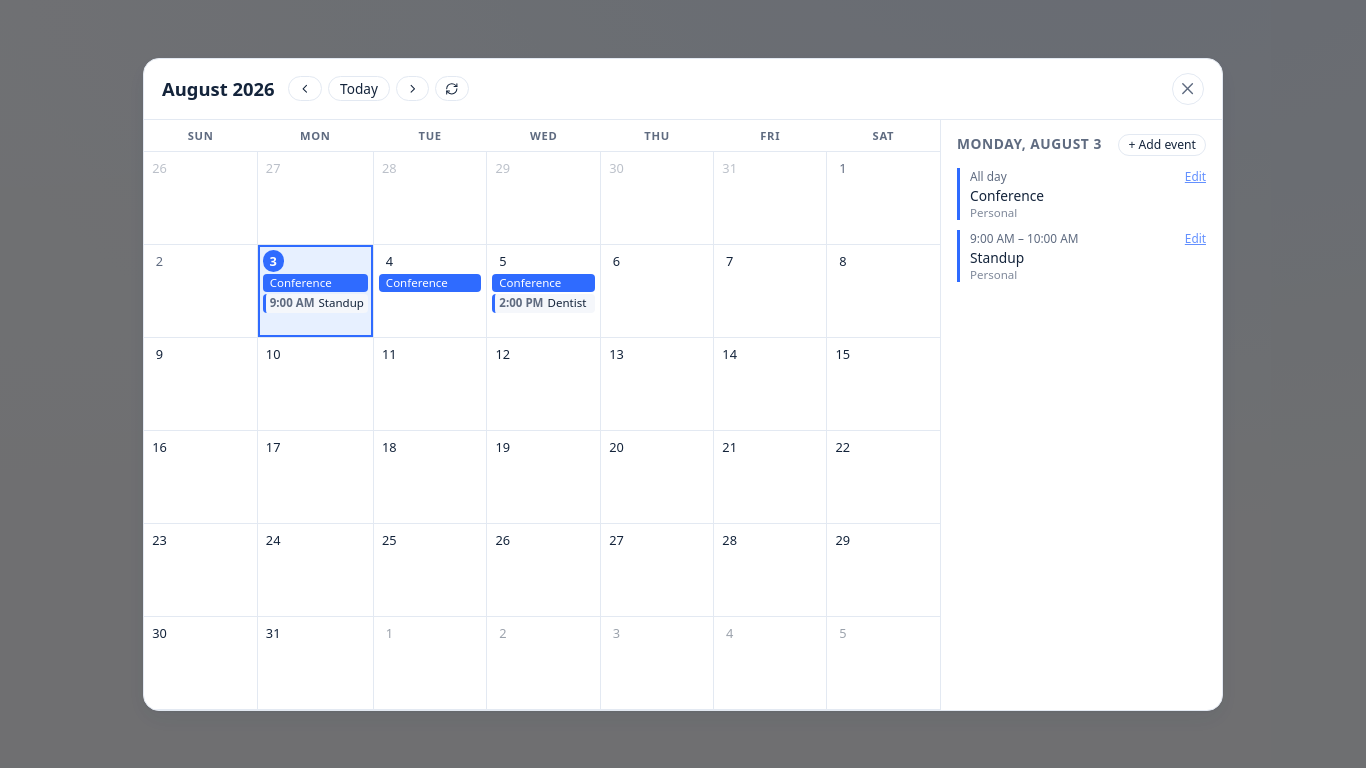
Test: CalendarModal paging months › moves the selection into the new month rather than off-screen
This screenshot has width=1366, height=768.
Click the button named "Next month". click: x=413, y=88
box: [396,76,429,101]
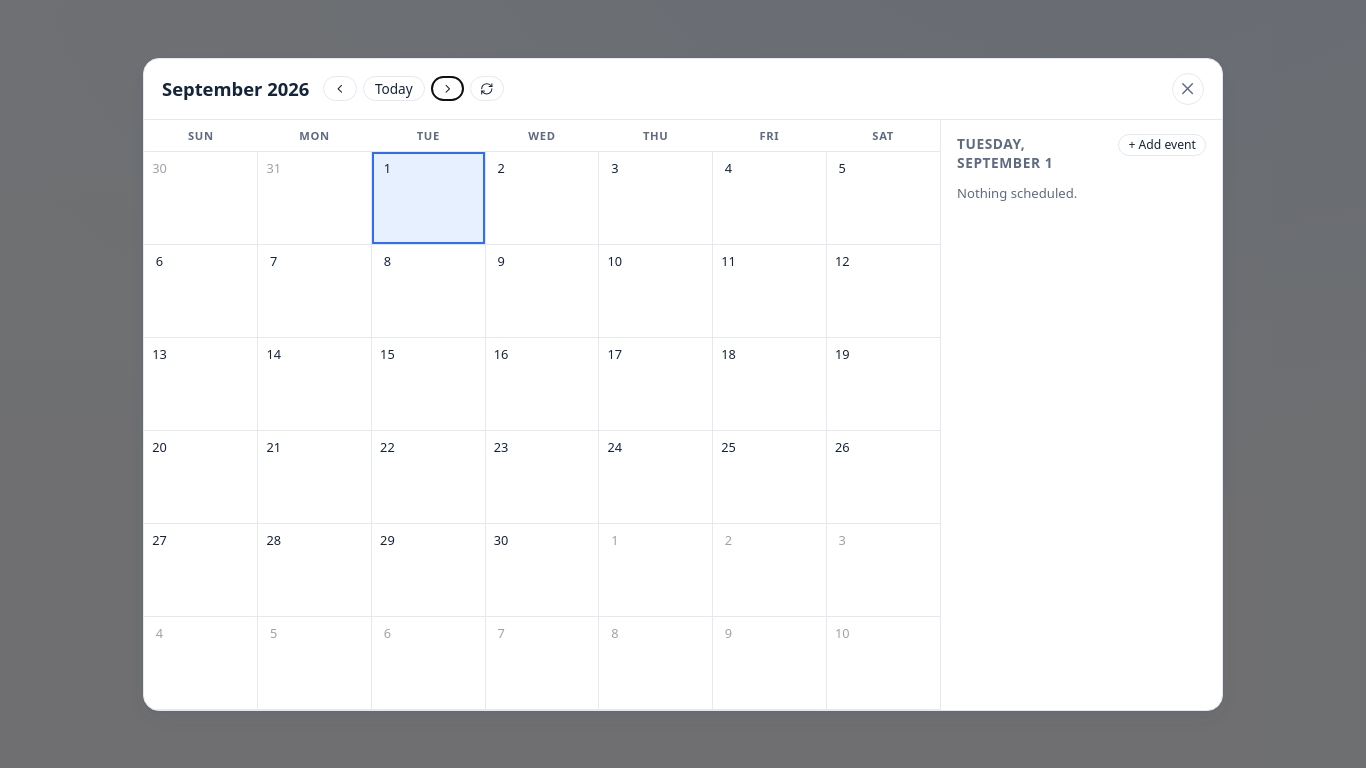
Expected: the heading "Tuesday, September 1" is shown, [957,134,1053,172]
